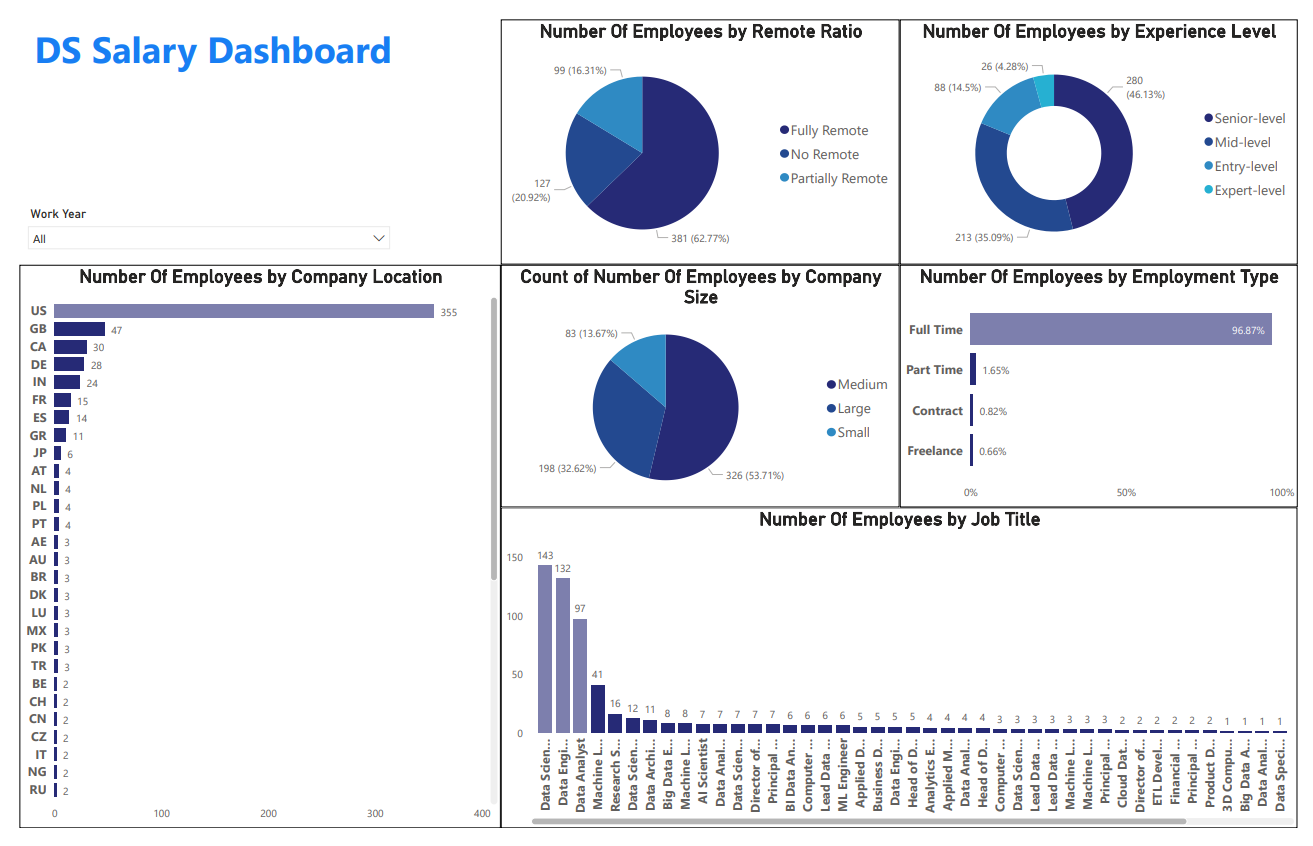

The page's visual inventory and layout, read from the dashboard file:
{"tool":"powerbi","page":{"name":"Over View","canvas":[1500,950],"ordinal":9},"visuals":[{"type":"textbox","box":[0,0,455,90],"z":0},{"type":"slicer","fields":{"Values":["ds_salaries.Work Year"]},"box":[0,215,445,73.3],"z":1000},{"type":"pieChart","title":"Number Of Employees by Remote Ratio","fields":{"Category":["ds_salaries.Remote Ratio"],"Y":["CountNonNull(ds_salaries.Number Of Employees)"]},"box":[565,0,468.3,288.3],"z":2000},{"type":"donutChart","title":"Number Of Employees by Experience Level","fields":{"Category":["ds_salaries.Experience Level"],"Y":["CountNonNull(ds_salaries.Number Of Employees)"]},"box":[1033.3,0,466.7,288.3],"z":3000},{"type":"barChart","title":"Number Of Employees by Employment Type","fields":{"Category":["ds_salaries.Employment Type"],"Y":["CountNonNull(ds_salaries.Number Of Employees)"]},"box":[1033.3,288.3,466.7,285],"z":4000},{"type":"clusteredColumnChart","title":"Number Of Employees by Job Title","fields":{"Category":["ds_salaries.Job Title"],"Y":["CountNonNull(ds_salaries.Number Of Employees)"]},"box":[565,573.3,935,376.7],"z":6000},{"type":"barChart","title":"Number Of Employees by Company Location","fields":{"Category":["ds_salaries.Company Location"],"Y":["CountNonNull(ds_salaries.Number Of Employees)"]},"box":[0,288.3,565,661.7],"z":7000},{"type":"pieChart","fields":{"Category":["ds_salaries.Company Size"],"Y":["CountNonNull(ds_salaries.Number Of Employees)"]},"box":[565,288.3,468.3,285],"z":7001}]}

Visuals, with their boxes in screenshot pixels (x1, y1, x2, y2), scaled from the page's 1500x950 canvas onto the 1313x846 screenshot:
textbox: bbox=(0, 0, 398, 80)
slicer - ds_salaries.Work Year: bbox=(0, 191, 390, 257)
"Number Of Employees by Remote Ratio" pieChart: bbox=(495, 0, 904, 257)
"Number Of Employees by Experience Level" donutChart: bbox=(904, 0, 1312, 257)
"Number Of Employees by Employment Type" barChart: bbox=(904, 257, 1312, 511)
"Number Of Employees by Job Title" clusteredColumnChart: bbox=(495, 511, 1312, 845)
"Number Of Employees by Company Location" barChart: bbox=(0, 257, 495, 845)
pieChart - ds_salaries.Company Size x CountNonNull(ds_salaries.Number Of Employees): bbox=(495, 257, 904, 511)
